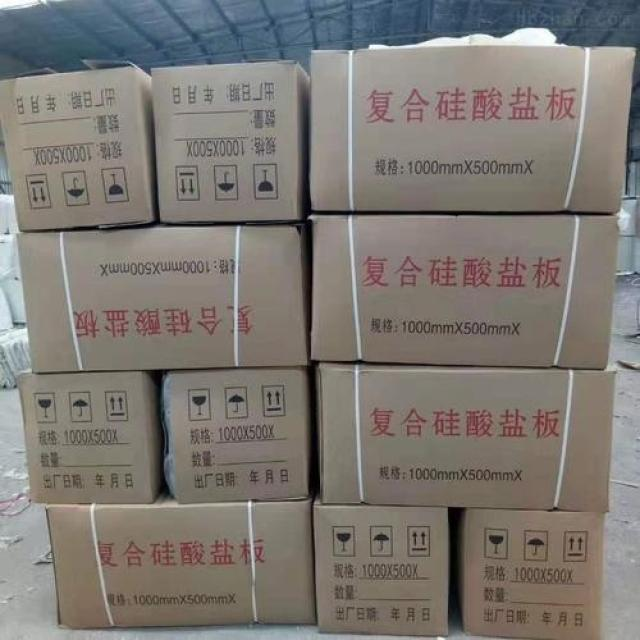box: (309, 46, 639, 214), (306, 210, 615, 368), (314, 359, 616, 513), (19, 221, 306, 373), (42, 485, 315, 625), (3, 60, 156, 230), (148, 62, 306, 223), (14, 367, 163, 502), (163, 371, 313, 503), (311, 502, 448, 634), (464, 511, 603, 639)
